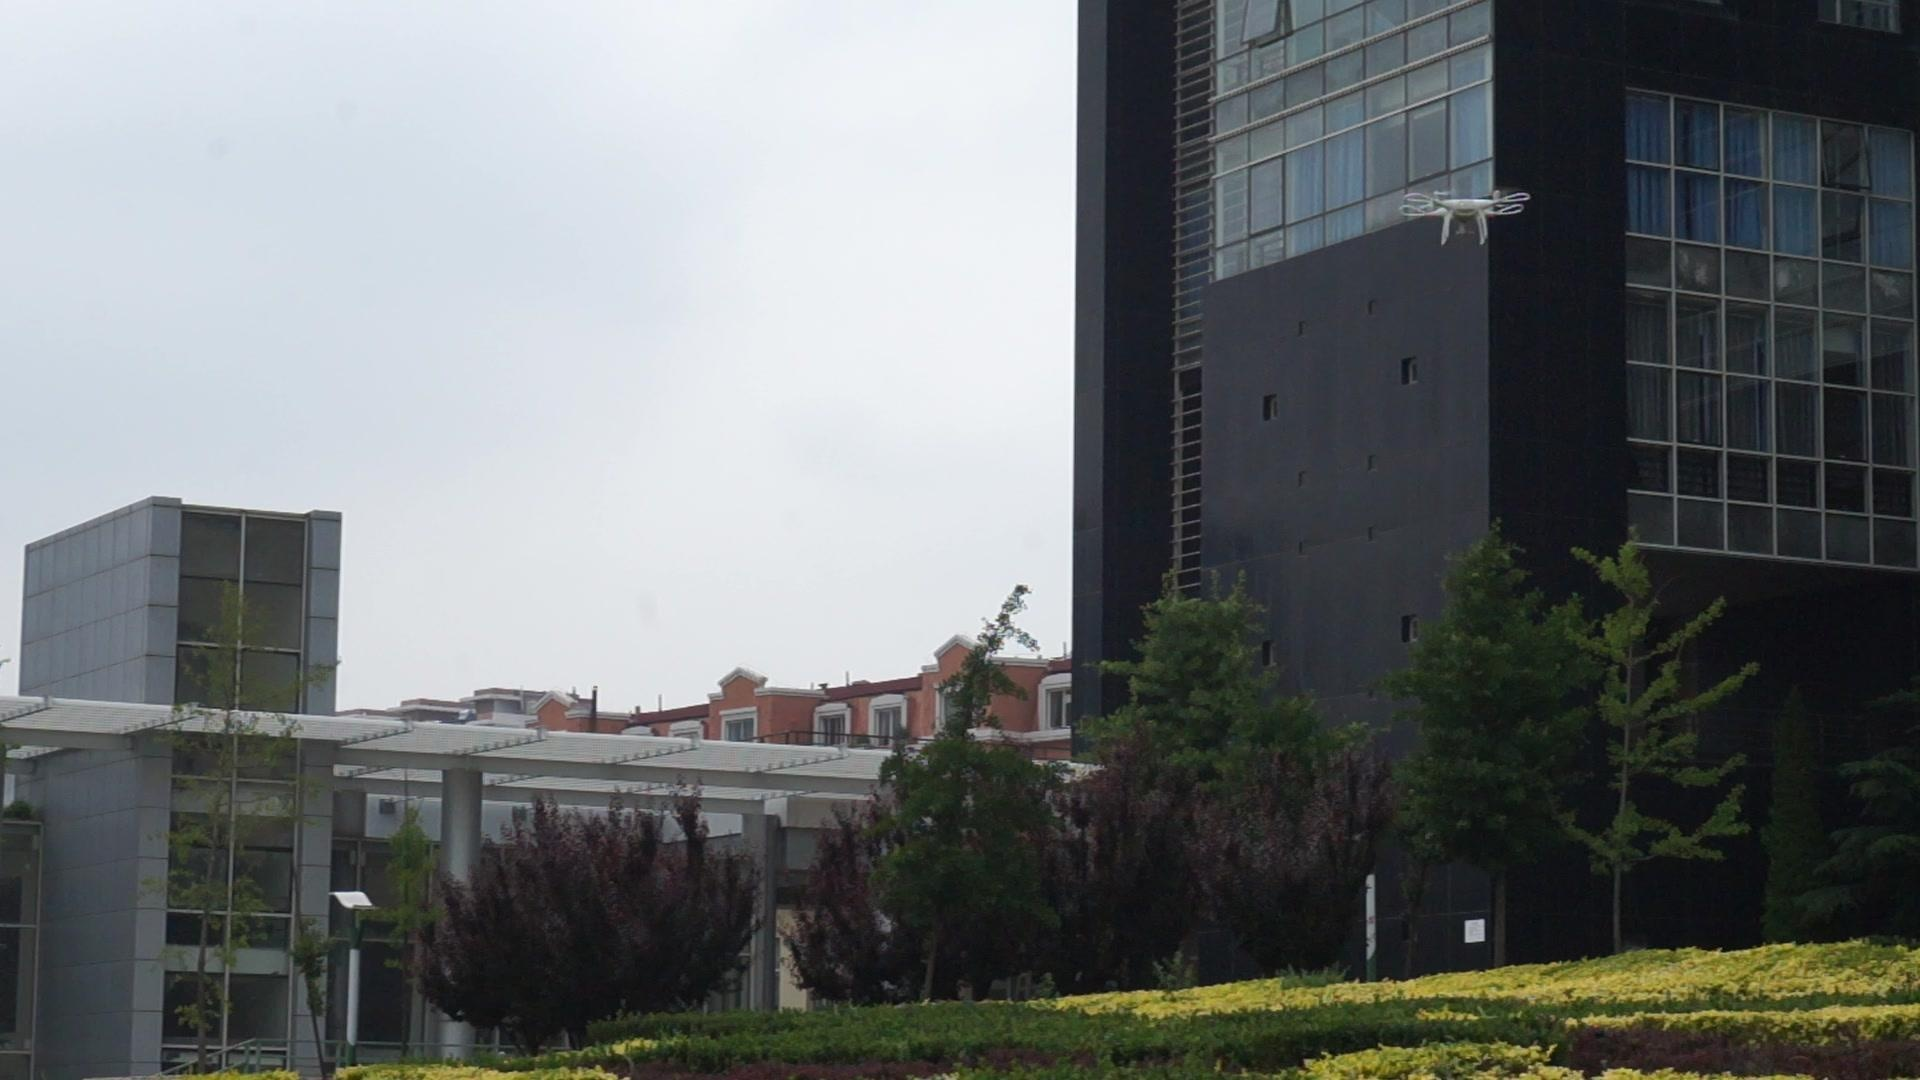UAV: (1400, 190, 1532, 247)
